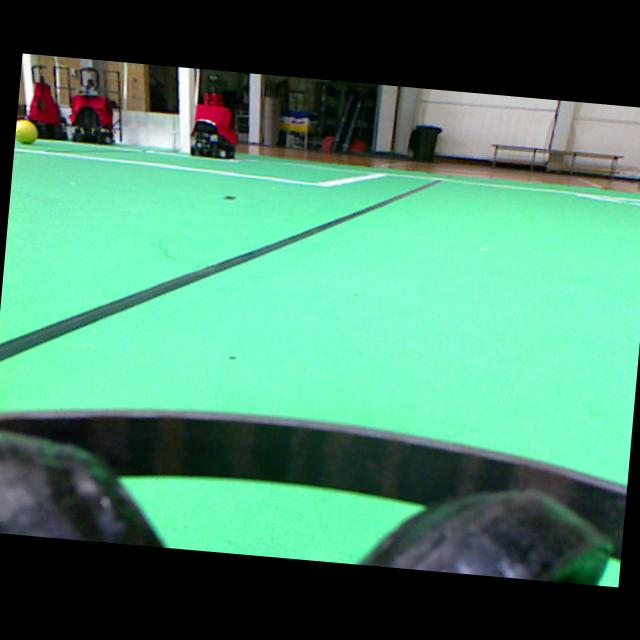ball: (15, 119, 36, 143)
goal: (177, 67, 194, 152)
